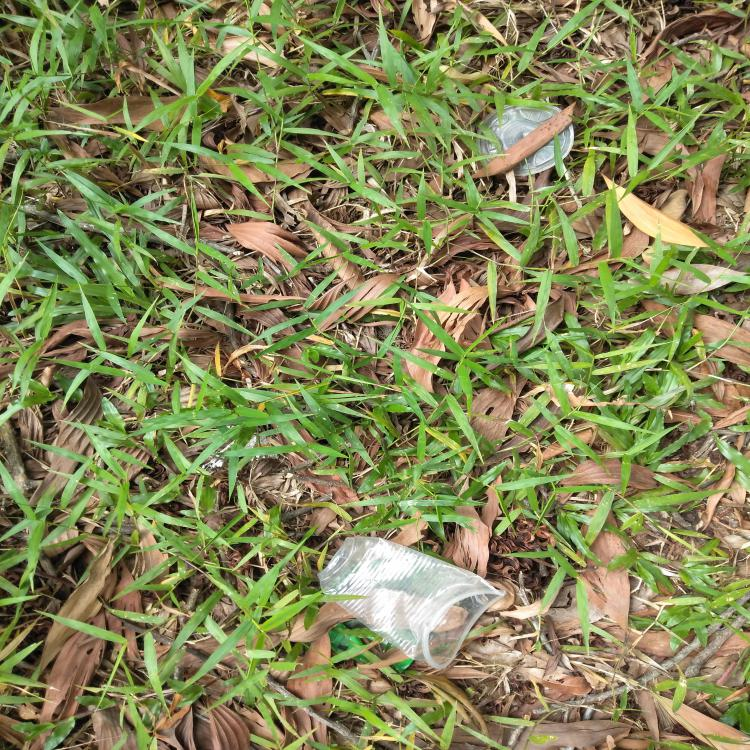Disposable plastic cup: (317, 536, 507, 670)
Other plastic: (328, 631, 414, 673)
Plastic lid: (476, 105, 574, 176)
